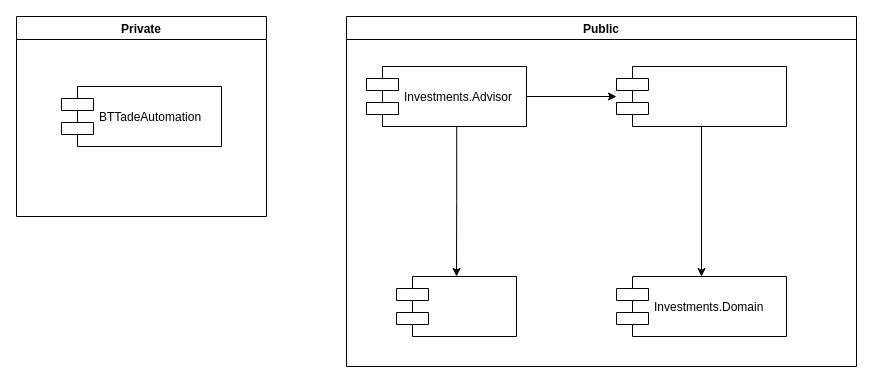
Some shapes in this 873 by 383 pixel diagram are drawn without their labels. The shapes that lost their labels are listed below. From the top down, each one's centre as x and y in pixels, then its label:
the point at 701,96: Investments.Math
the point at 456,306: BVBScraper
